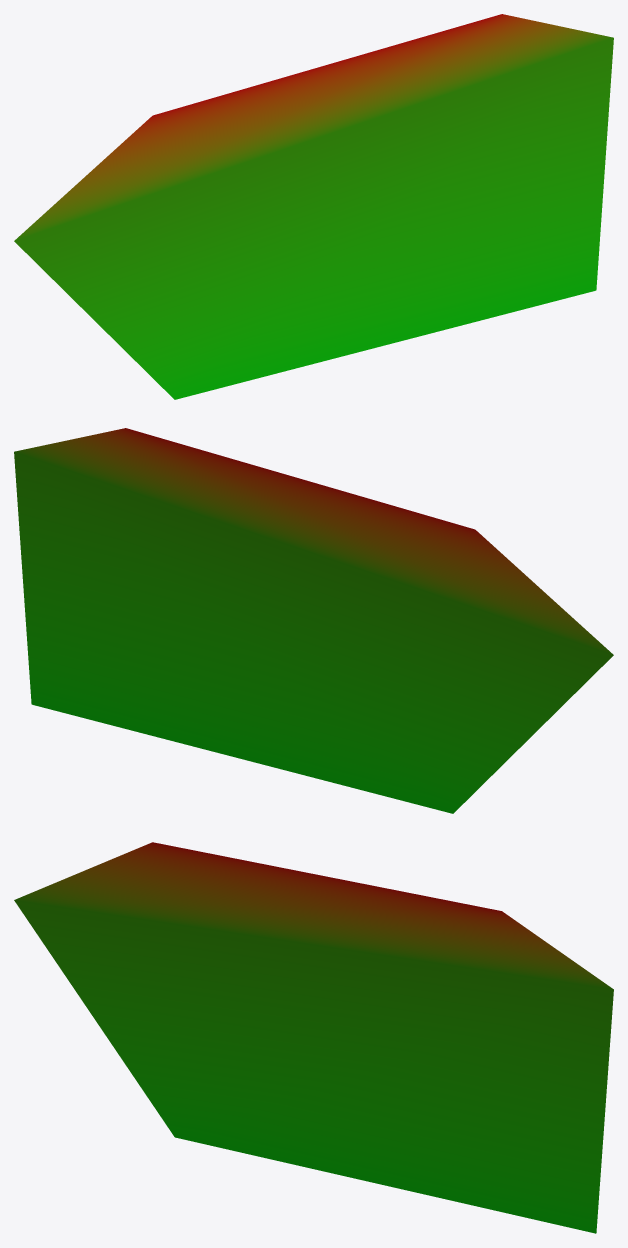
Rendered from Fern_LOD3_Var3_rmAsg.fbx.
3 views of the same model, one above another, from view 1: azimuth 30°, elevation 25°; view 2: azimuth 150°, elevation 25°; view 3: azimuth 330°, elevation 25° (orthographic).
Parts seen in each view (by area): view 1: _7ab3_Var3_LOD3; view 2: _7ab3_Var3_LOD3; view 3: _7ab3_Var3_LOD3.
Part boxes in pixels (bbox=[...]): _7ab3_Var3_LOD3: bbox=[14, 14, 613, 399]; _7ab3_Var3_LOD3: bbox=[14, 428, 613, 813]; _7ab3_Var3_LOD3: bbox=[14, 842, 613, 1233].
Size of the model in its own units: 203 by 98.93 by 1.43e-05.
